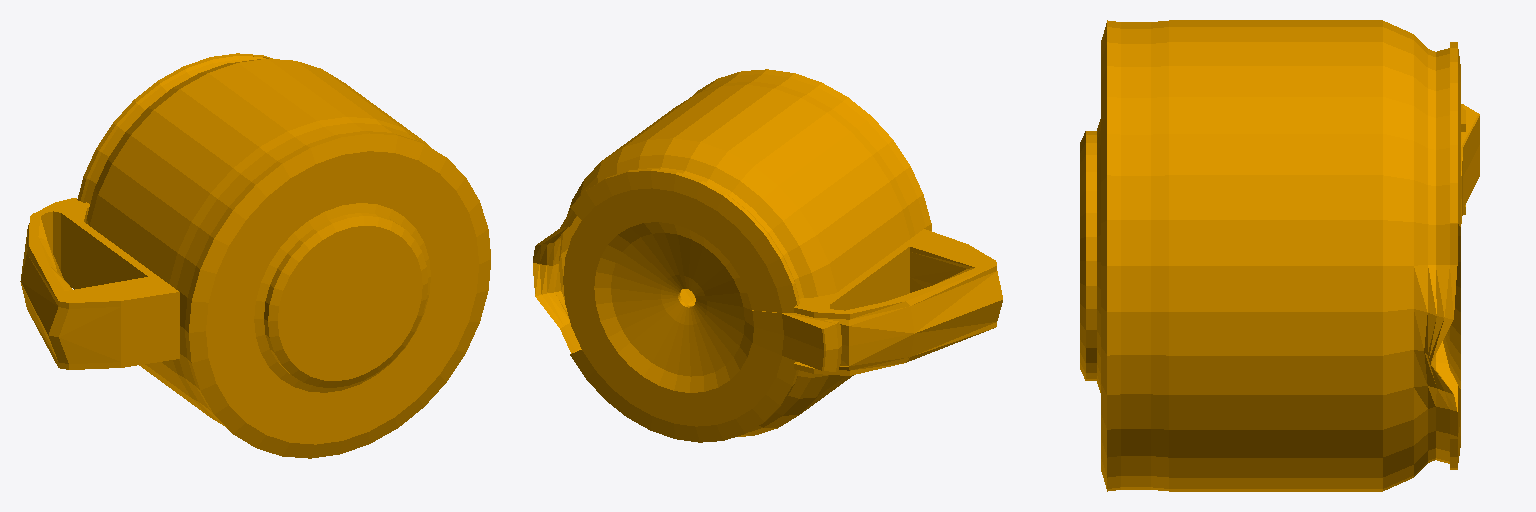
URDF robot description (coffee-pot.off):
<?xml version="1.0"?>
<robot name="coffee-pot.off">
	<link name="coffee-pot.off">
		<inertial>
			<!--origin xyz="0 0 0" rpy="0 0 0" /-->
			<mass value="0.5" />
			<!--inertia ixx="0.000360" ixy="0" ixz="0" iyy="0.0000615" iyz="0" izz="0.00036" /-->
		</inertial>
    		<visual>
	      		<!--origin rpy="0 0 0" xyz="0 0 0"/-->
      			<geometry>
        			<mesh filename="coffee-pot.off.obj"/>
      			</geometry>
         	</visual>
    		<collision>
      			<!--origin rpy="0 0 0" xyz="0 0 0"/-->
      			<geometry>
        			<mesh filename="coffee-pot.off.obj"/>
      			</geometry>
    		</collision>
	</link>
</robot>

--- Render facts (derived) ---
3 views of the same robot in one strip: view 1: azimuth 30°, elevation 25°; view 2: azimuth 150°, elevation 25°; view 3: azimuth 270°, elevation 25° (orthographic).
Robot: coffee-pot.off — 1 links, 0 joints (none); root link coffee-pot.off; default pose: every joint at zero.
Links seen in each view (by area): view 1: coffee-pot.off; view 2: coffee-pot.off; view 3: coffee-pot.off.
Link boxes in pixels (x1,y1,x2,y2): coffee-pot.off: (20,53,490,458); coffee-pot.off: (533,69,1002,442); coffee-pot.off: (1080,20,1479,491).
Size in the robot's own frame: 21.57 by 13.07 by 15.4 metres.
Meshes: 1 distinct files referenced, 1 mesh visuals loaded (1 OBJ).
